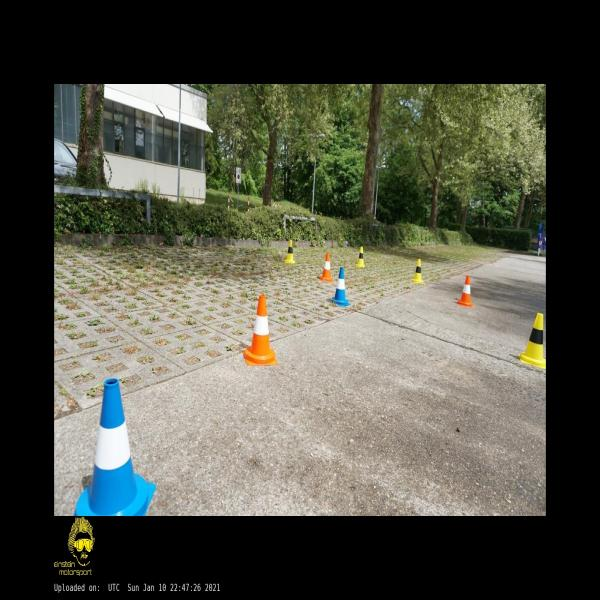blue_cone: (74, 378, 156, 516), (332, 268, 350, 306)
orange_cone: (243, 295, 277, 365), (457, 276, 473, 306), (320, 253, 333, 281)
yellow_cone: (519, 314, 546, 369), (413, 260, 422, 282), (285, 241, 294, 262), (357, 247, 364, 266)
